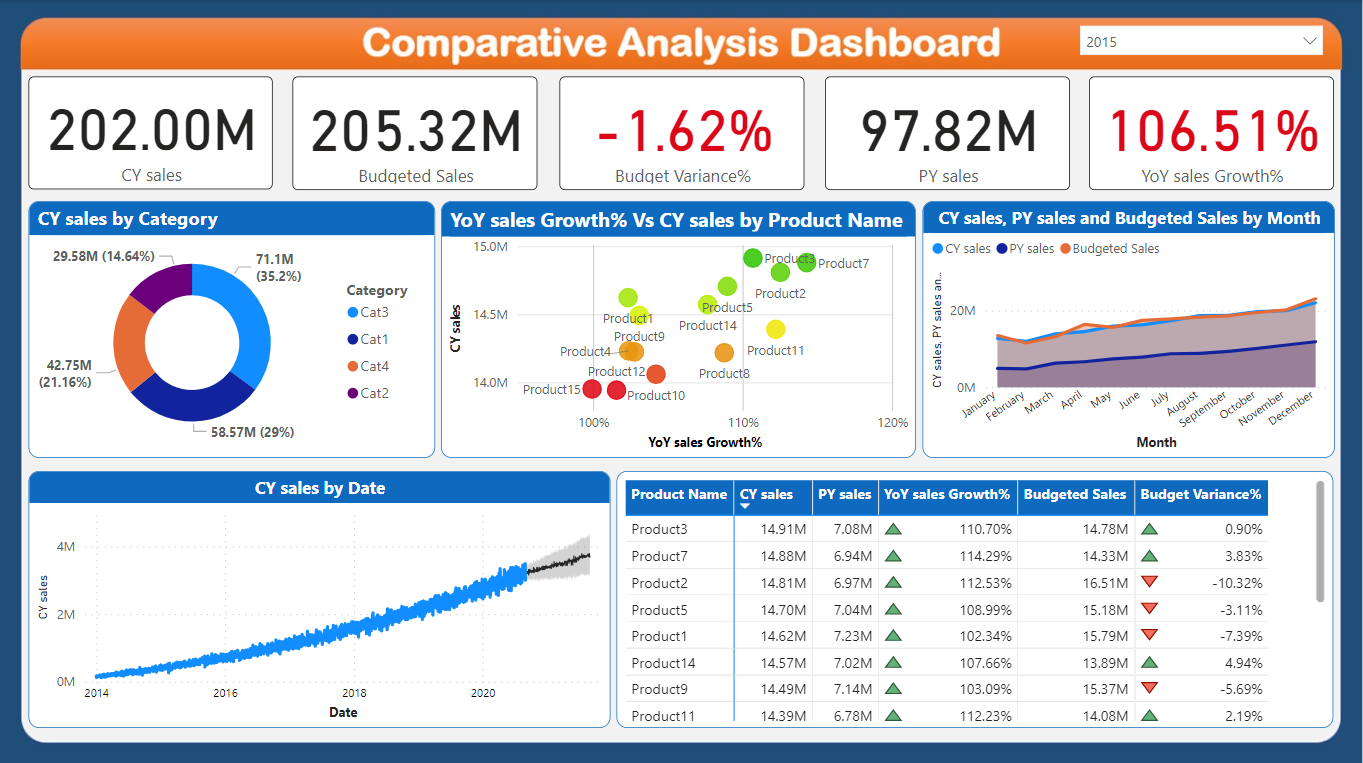

Layout of this report page (visuals, bound fields, positions):
{"tool":"powerbi","page":{"name":"Dashboard","canvas":[1280,720],"ordinal":0},"visuals":[{"type":"card","fields":{"Values":["Sales.YoY sales Growth%"]},"box":[1023.3,71.7,230,106.7],"z":0},{"type":"card","fields":{"Values":["Sales.CY sales"]},"box":[26.6,71.8,229.6,106.2],"z":1000},{"type":"card","fields":{"Values":["Sales.Budgeted Sales"]},"box":[275,71.7,230,106.7],"z":2000},{"type":"card","fields":{"Values":["Sales.Budget Variance%"]},"box":[525,71.7,230,106.7],"z":3000},{"type":"card","fields":{"Values":["Sales.PY sales"]},"box":[775,71.7,230,106.7],"z":4000},{"type":"slicer","fields":{"Values":["Date dim.Year","Date dim.Qtr","Date dim.Month"]},"box":[1004.3,17.2,248.3,43.7],"z":5000},{"type":"donutChart","fields":{"Y":["Sales.CY sales"],"Category":["Product Master.Category"]},"box":[26.8,189.3,382.1,241],"z":6000},{"type":"scatterChart","title":"YoY sales Growth% Vs CY sales by Product Name","fields":{"Y":["Sales.CY sales"],"X":["Sales.YoY sales Growth%"],"Category":["Product Master.Product Name"]},"box":[414.3,189.3,446,241],"z":7000},{"type":"areaChart","fields":{"Category":["Date dim.Month"],"Y":["Sales.CY sales","Sales.PY sales","Sales.Budgeted Sales"]},"box":[866.1,189.3,387.5,241],"z":8000},{"type":"lineChart","fields":{"Category":["Date dim.Date"],"Y":["Sales.CY sales"]},"box":[26.8,442.9,546.4,241.1],"z":9000},{"type":"pivotTable","fields":{"Rows":["Product Master.Category","Product Master.Product Name"],"Values":["Sales.CY sales","Sales.PY sales","Sales.YoY sales Growth%","Sales.Budgeted Sales","Sales.Budget Variance%"]},"box":[578.6,442.9,673.2,241.1],"z":10000}]}

Visuals, with their boxes in screenshot pixels (x1, y1, x2, y2), scaled from the page's 1280x720 canvas onto the 1363x763 screenshot:
card - Sales.YoY sales Growth%: (1090, 76, 1335, 189)
card - Sales.CY sales: (28, 76, 273, 189)
card - Sales.Budgeted Sales: (293, 76, 538, 189)
card - Sales.Budget Variance%: (559, 76, 804, 189)
card - Sales.PY sales: (825, 76, 1070, 189)
slicer - Date dim.Year x Date dim.Qtr: (1069, 18, 1334, 65)
donutChart - Sales.CY sales x Product Master.Category: (29, 201, 435, 456)
"YoY sales Growth% Vs CY sales by Product Name" scatterChart: (441, 201, 916, 456)
areaChart - Date dim.Month x Sales.CY sales: (922, 201, 1335, 456)
lineChart - Date dim.Date x Sales.CY sales: (29, 469, 610, 725)
pivotTable - Product Master.Category x Product Master.Product Name: (616, 469, 1333, 725)
